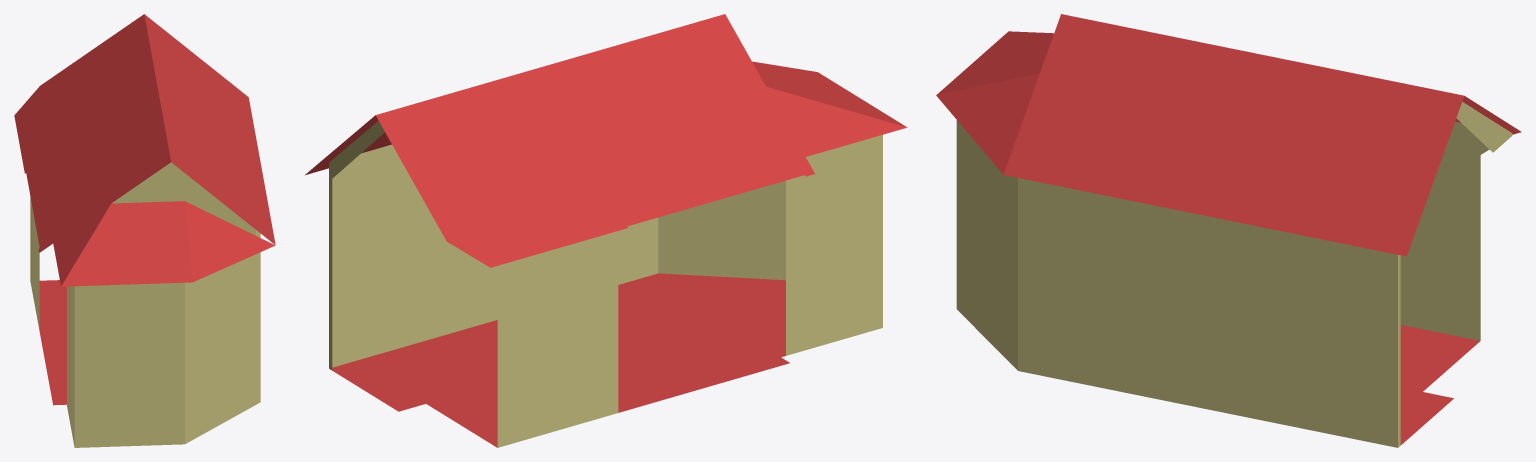
3 renders of one model, left to right at view 1: azimuth 30°, elevation 25°; view 2: azimuth 150°, elevation 25°; view 3: azimuth 270°, elevation 25°, orthographic. The views are drawn at different scales.
Bounding box in the file's own units: 20.24 × 23.46 × 13.79.
